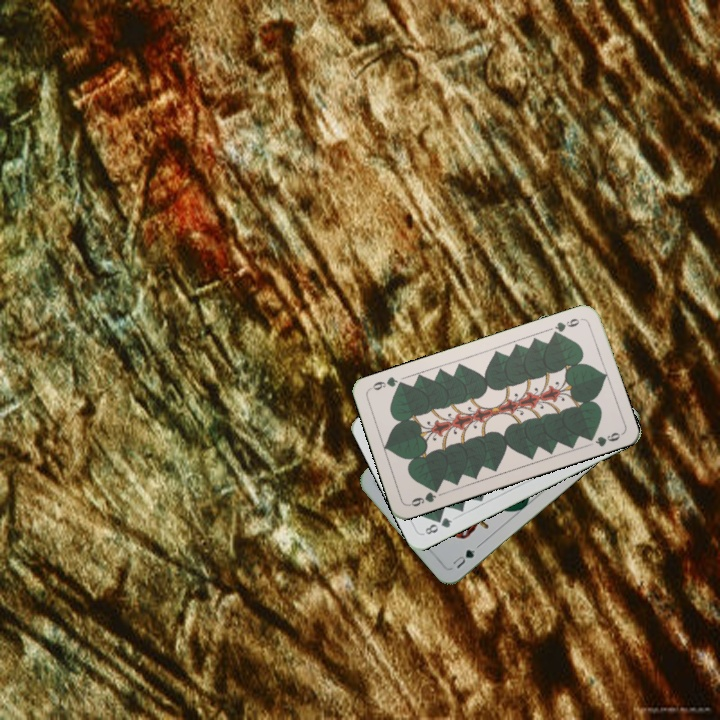G8: (421, 513, 455, 537)
G9: (405, 483, 442, 509), (548, 314, 582, 339)
GU: (448, 545, 478, 571)
